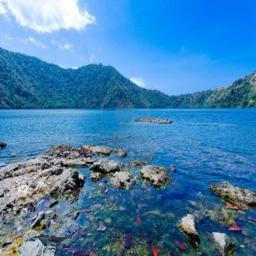Cuckoo: (33, 226, 84, 251)
